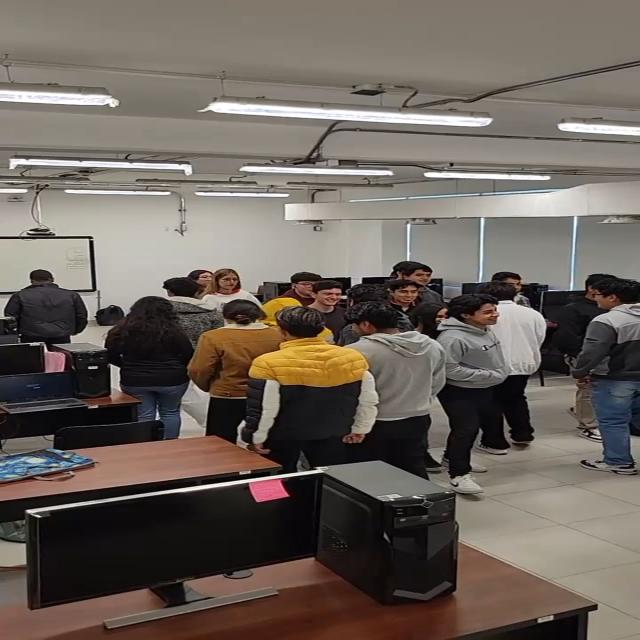Persona: (246, 308, 360, 472), (434, 294, 514, 501), (351, 301, 441, 472), (101, 294, 188, 434), (585, 275, 640, 479), (489, 272, 545, 450), (193, 300, 263, 429), (7, 266, 83, 346)
